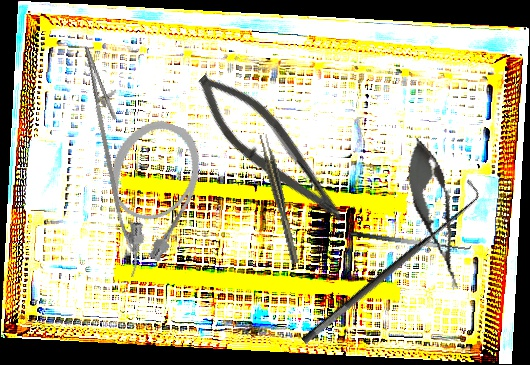Cannula: (78, 109, 215, 288)
Hook Surgical: (289, 178, 488, 347)
Micro Scissor: (180, 61, 364, 234), (396, 133, 475, 295)
Needle Holder: (65, 42, 152, 213)
Spatula Surgical: (349, 220, 473, 256)
Tissue Forceps: (257, 132, 300, 266)
